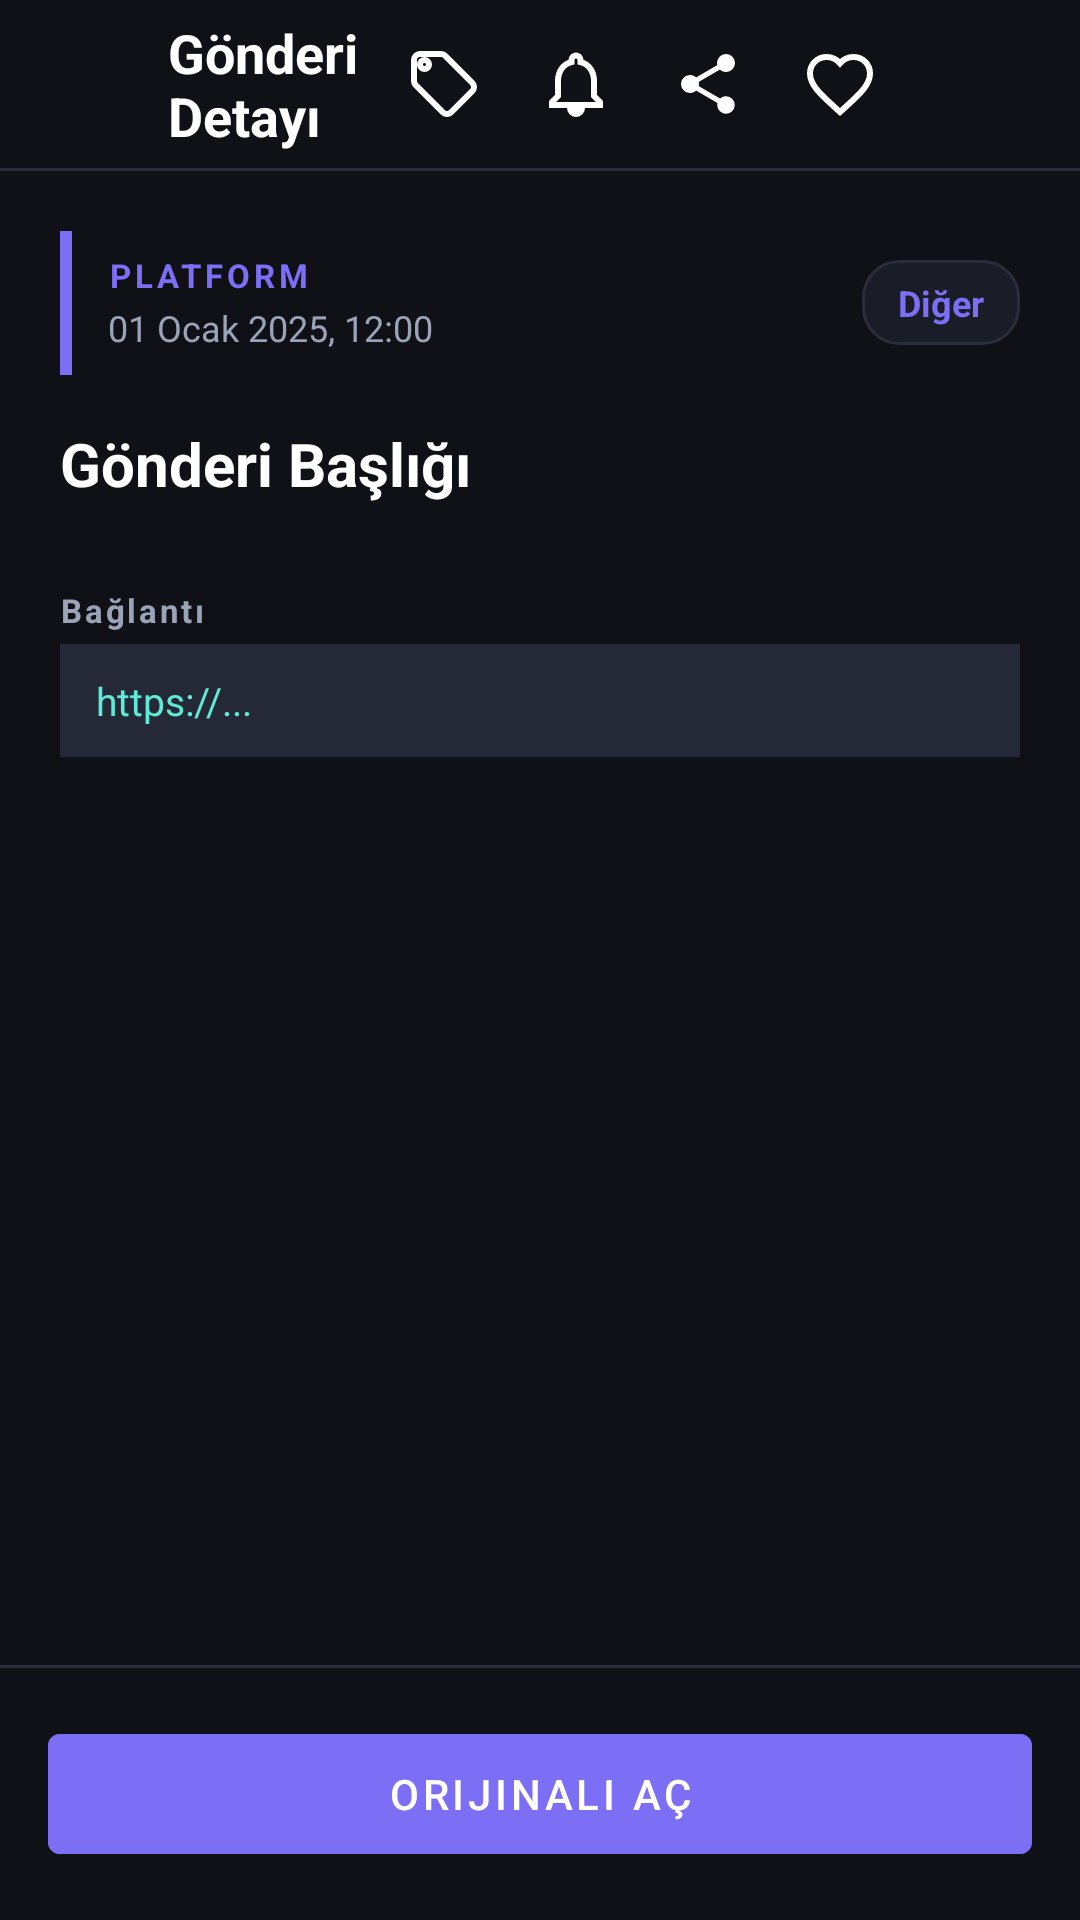

Where to tap for icons on this 1080w x 1920h app screen, as (x,y):
Etiketler: (444,84)
Favori: (840,85)
Hatırlatıcı: (576,84)
Paylaş: (708,84)
